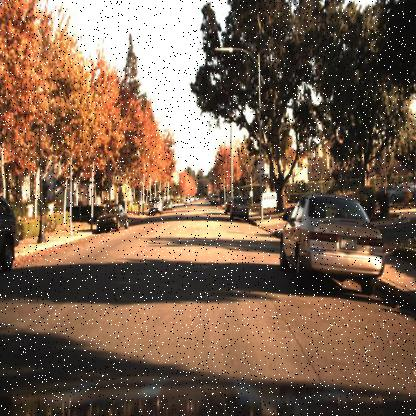car: (277, 188, 385, 290), (0, 191, 18, 277), (94, 204, 130, 232), (230, 195, 249, 219), (148, 196, 162, 218)
